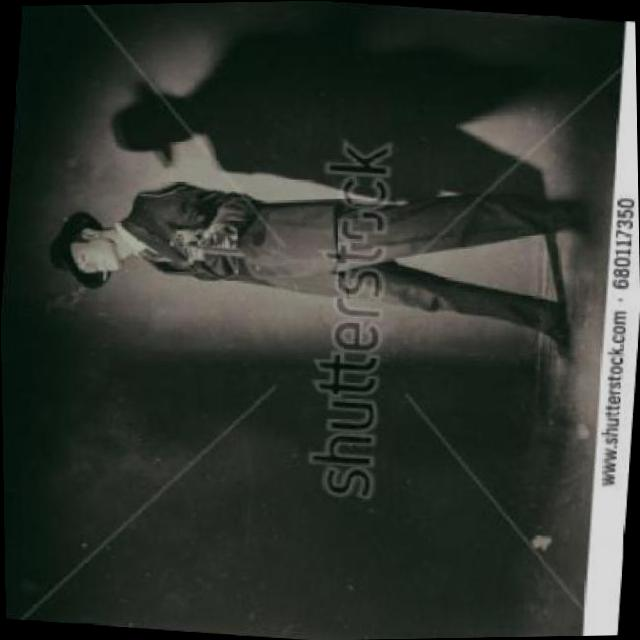smoke: (104, 266, 110, 282)
